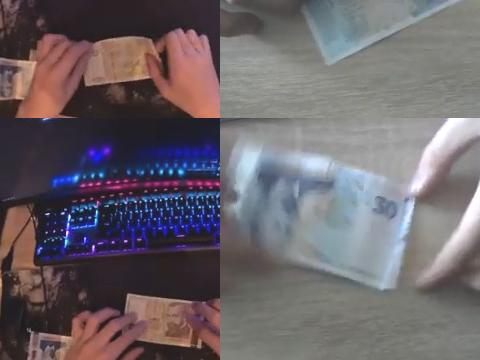20leva: (220, 142, 418, 292), (301, 0, 466, 66)
50leva: (123, 293, 203, 350), (83, 37, 158, 87)
